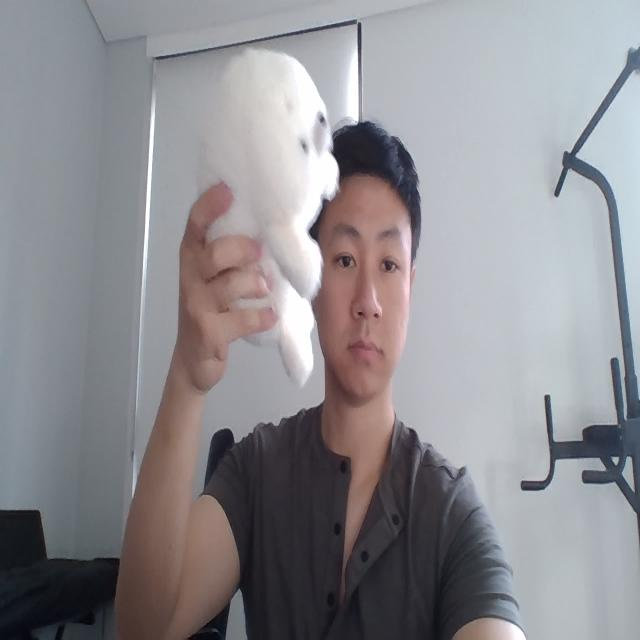seal_bb: (195, 45, 339, 389)
